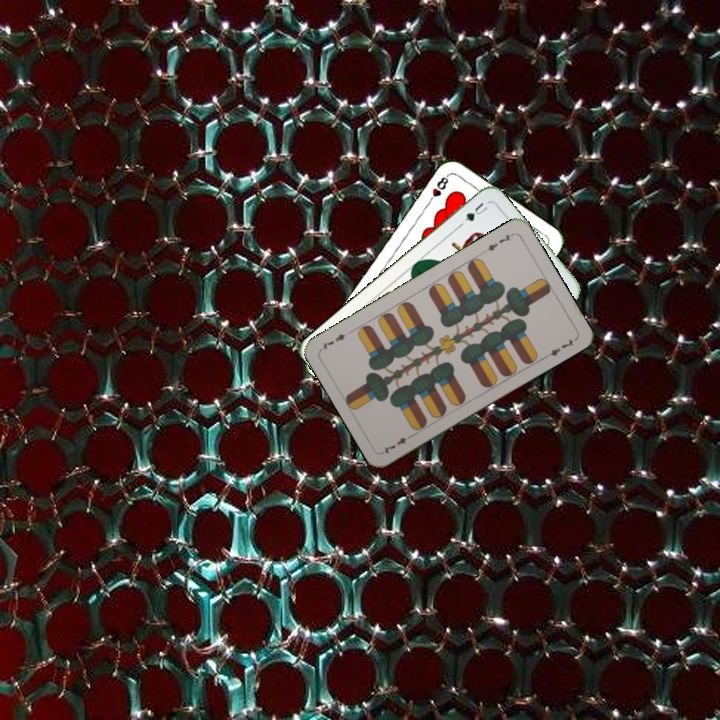E7: (479, 229, 516, 256), (379, 430, 416, 456)
GU: (461, 198, 490, 224)
H8: (424, 171, 452, 207)
